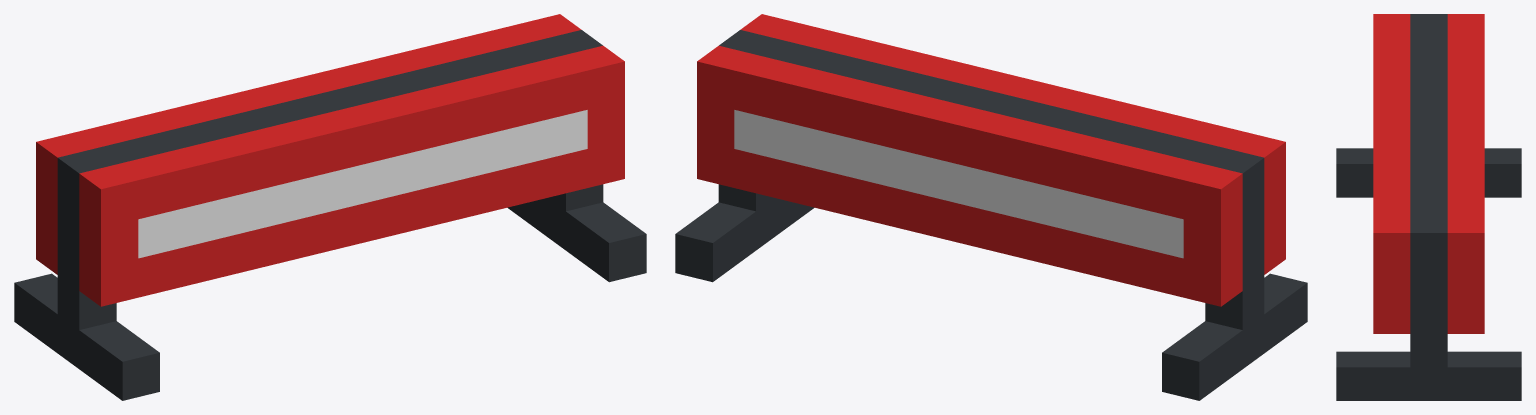
Rendered from bariyer.obj.
The picture shows the model from 3 angles, left to right: view 1: azimuth 30°, elevation 25°; view 2: azimuth 150°, elevation 25°; view 3: azimuth 270°, elevation 25°; orthographic projection. The views are drawn at different scales.
Size of the model in its own units: 1.4 by 0.5 by 0.5.
Materials: 1 (1 with a texture image).
